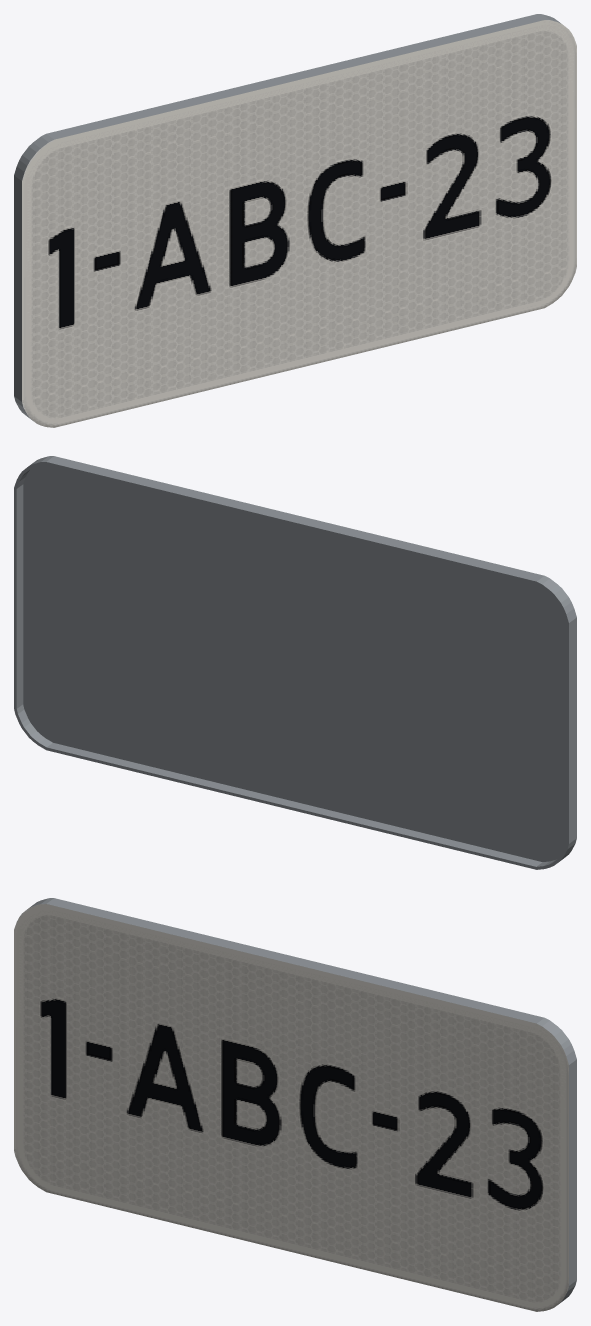
3 renders of one model, top to bottom at view 1: azimuth 30°, elevation 25°; view 2: azimuth 150°, elevation 25°; view 3: azimuth 330°, elevation 25°, orthographic.
Visible parts, largest first — view 1: cat_0f64368bb076862a; view 2: cat_0f64368bb076862a; view 3: cat_0f64368bb076862a.
Boxes of the visible parts, left/top/right/bottom form: cat_0f64368bb076862a: left=14, top=14, right=576, bottom=427; cat_0f64368bb076862a: left=14, top=456, right=576, bottom=869; cat_0f64368bb076862a: left=14, top=898, right=576, bottom=1311.
Size of the model in its own units: 0.6 by 0.015 by 0.2978.
Materials: 2 (1 with a texture image).
